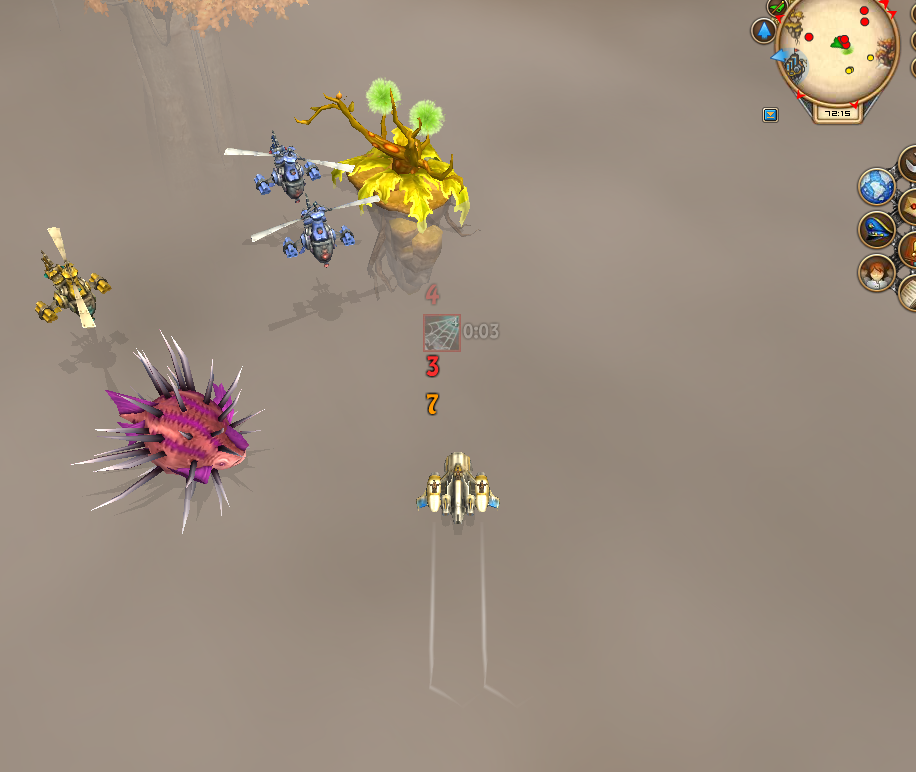dandelion-full: (306, 75, 477, 306)
